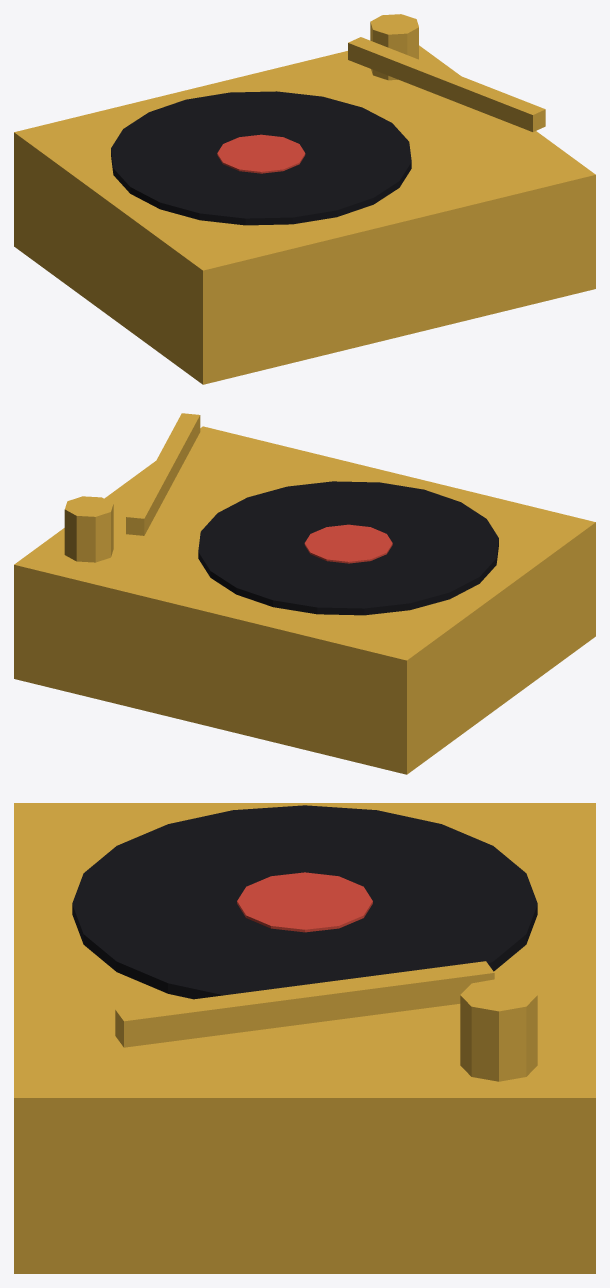
Rendered from golden_player.glb.
3 renders of one model, top to bottom at view 1: azimuth 30°, elevation 25°; view 2: azimuth 150°, elevation 25°; view 3: azimuth 270°, elevation 25°, orthographic. The views are drawn at different scales.
Visible parts, largest first — view 1: body_gold, record_vinyl, arm_gold, label_label_red, knob_gold; view 2: body_gold, record_vinyl, arm_gold, knob_gold, label_label_red; view 3: body_gold, record_vinyl, arm_gold, knob_gold, label_label_red.
Part boxes in pixels (box(x1,y1,x2,y2)): body_gold: box(14, 45, 595, 384); record_vinyl: box(111, 91, 411, 225); arm_gold: box(348, 37, 545, 131); label_label_red: box(217, 134, 305, 173); knob_gold: box(370, 14, 418, 80); body_gold: box(14, 426, 595, 774); record_vinyl: box(198, 481, 498, 615); arm_gold: box(126, 413, 200, 535); knob_gold: box(64, 496, 113, 562); label_label_red: box(304, 524, 392, 563); body_gold: box(14, 803, 595, 1273); record_vinyl: box(72, 805, 537, 999); arm_gold: box(115, 961, 494, 1047); knob_gold: box(460, 978, 537, 1081); label_label_red: box(237, 872, 372, 932).
Bounding box in the file's own units: 0.36 × 0.14 × 0.3.
